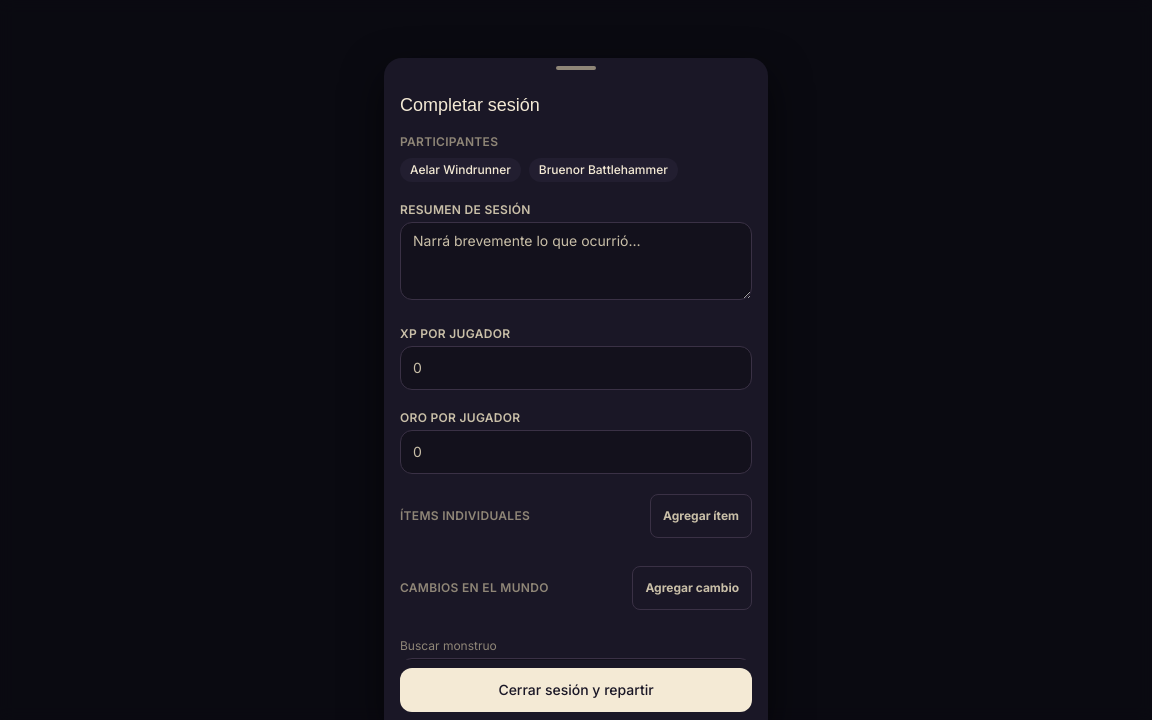
CompleteForm › adds an item row when "Agregar ítem" is clicked
This screenshot has width=1152, height=720.
Click the button "Agregar ítem" at coordinates (701, 516), box 650,494 -> 752,538
(page scrolled)
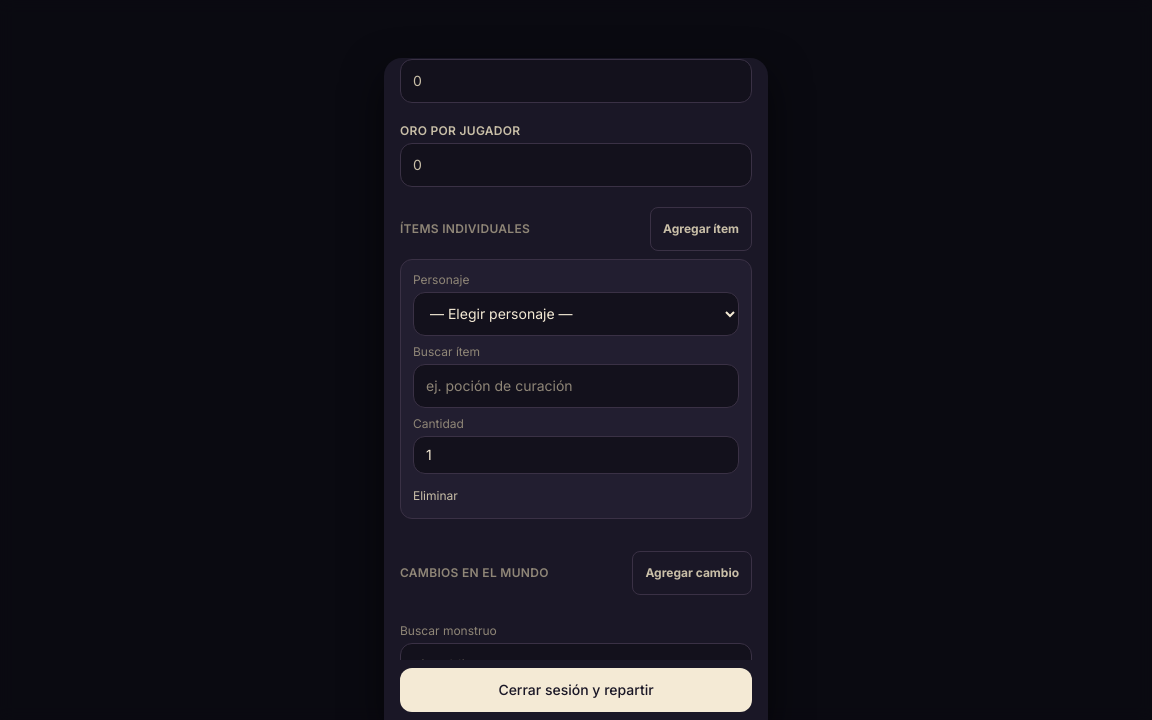
Check: the element with test id "item-row-0" is shown, box 400,259 -> 752,519
